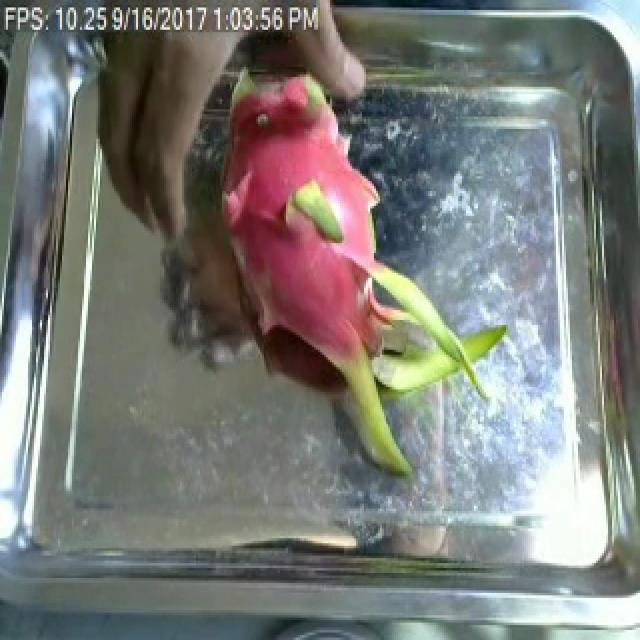fruit: (190, 67, 518, 489)
